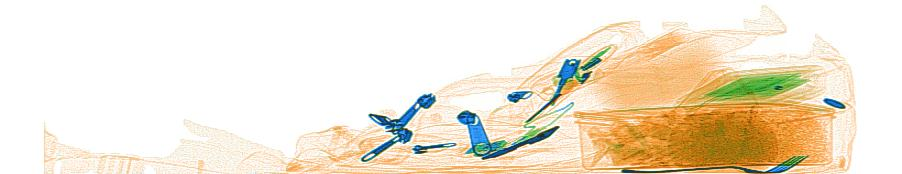USBFlashDisk: (466, 138, 506, 155)
